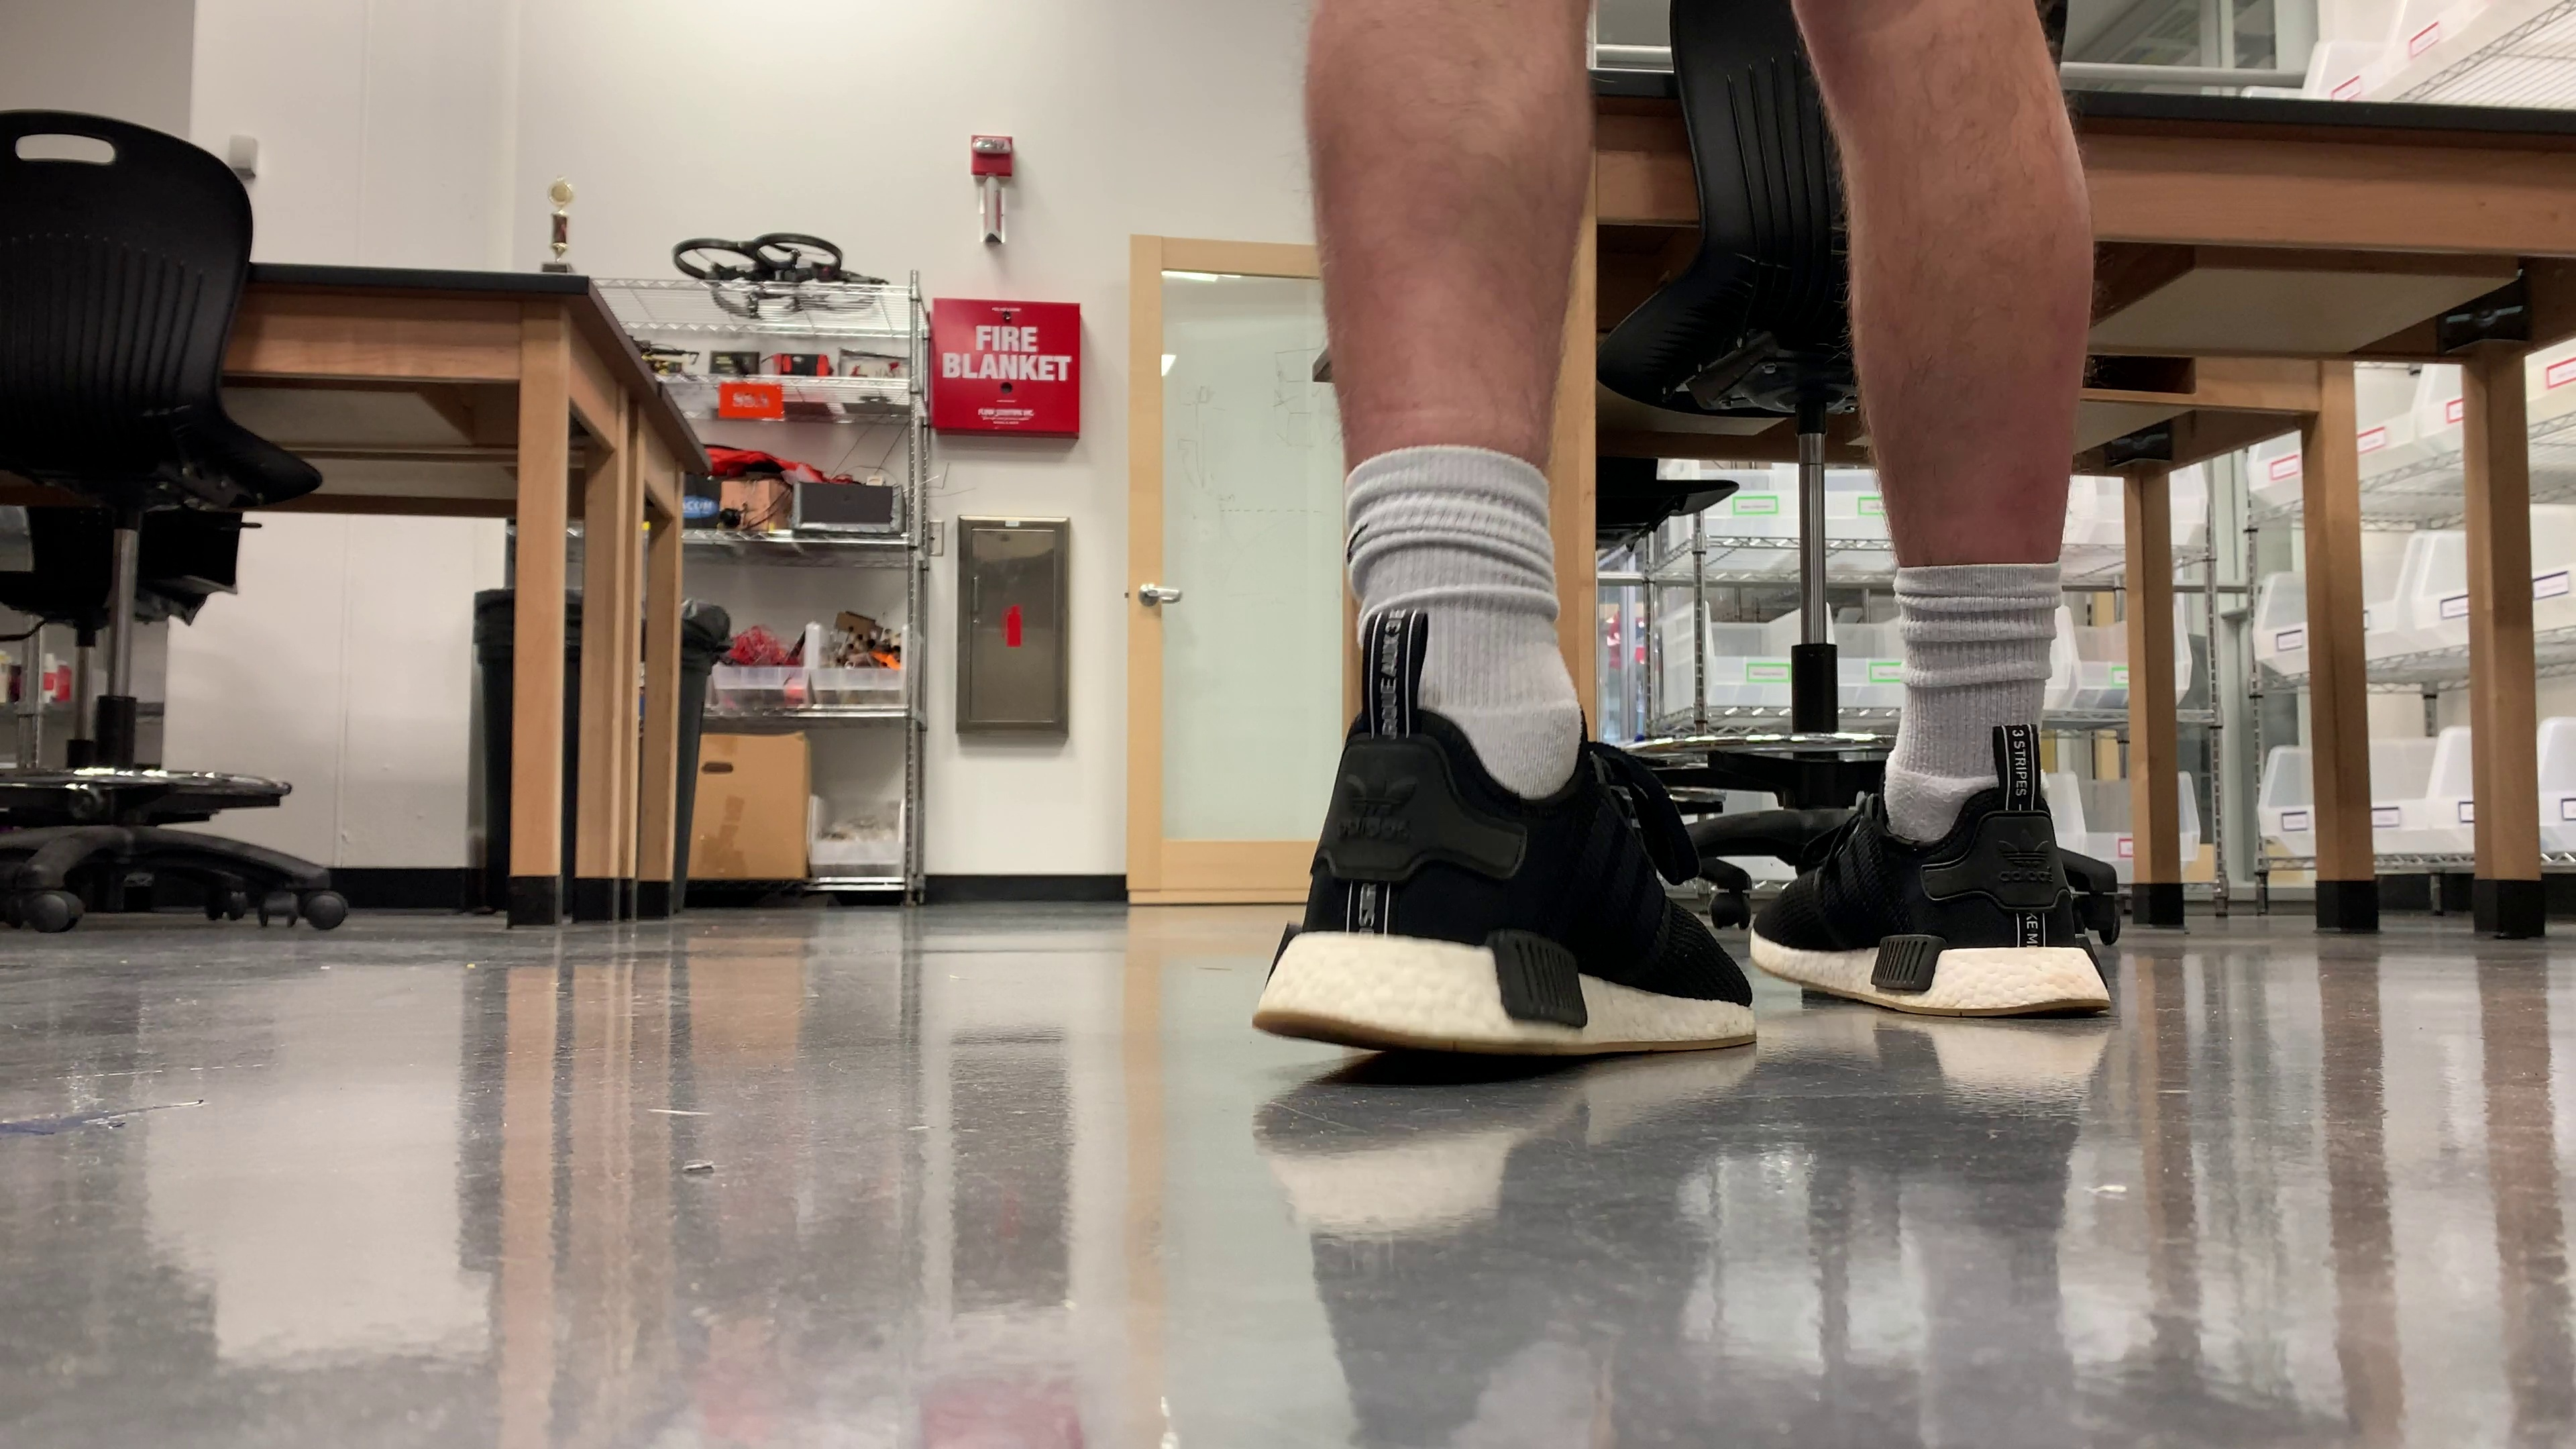shoe: (1253, 708, 1752, 1054), (1755, 791, 2107, 1016)
